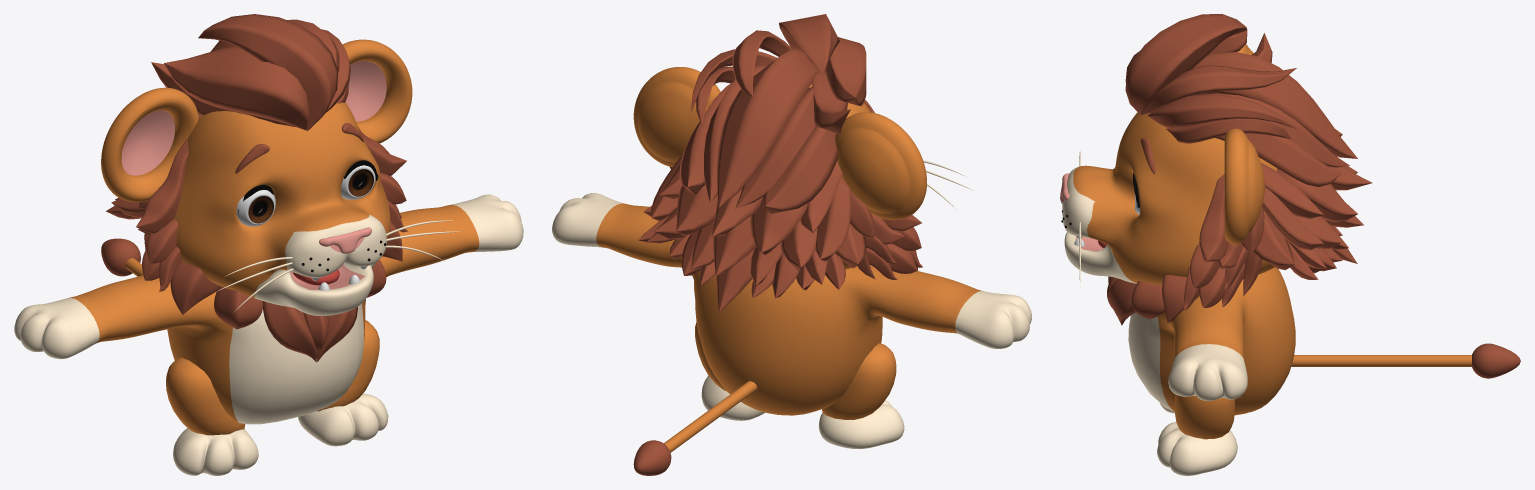
Rendered from character.glb.
3 renders of one model, left to right at view 1: azimuth 30°, elevation 25°; view 2: azimuth 150°, elevation 25°; view 3: azimuth 270°, elevation 25°, orthographic. The views are drawn at different scales.
Visible parts, largest first — view 1: Retopo_head, body, ears, NurbsPath.002, NurbsPath, feet, NurbsPath.001, legs, NurbsPath.003, NurbsPath.005, NurbsPath.004, Sphere.010 (+6 smaller); view 2: NurbsPath, body, ears, feet, legs, NurbsPath.002, NurbsPath.001, NurbsPath.007, tail, tail fur, NurbsPath.008, NurbsPath.009; view 3: NurbsPath, Retopo_head, body, NurbsPath.001, ears, NurbsPath.007, feet, NurbsPath.008, legs, tail, NurbsPath.009, tail fur (+4 smaller).
Part boxes in pixels (x1=…): Retopo_head: x1=174, y1=102, x2=390, y2=315; body: x1=14, y1=194, x2=523, y2=424; ears: x1=101, y1=39, x2=412, y2=202; NurbsPath.002: x1=164, y1=46, x2=309, y2=130; NurbsPath: x1=106, y1=40, x2=408, y2=291; feet: x1=173, y1=393, x2=388, y2=475; NurbsPath.001: x1=198, y1=14, x2=338, y2=131; legs: x1=166, y1=320, x2=379, y2=435; NurbsPath.003: x1=263, y1=301, x2=357, y2=362; NurbsPath.005: x1=170, y1=221, x2=402, y2=314; NurbsPath.004: x1=214, y1=260, x2=386, y2=329; Sphere.010: x1=236, y1=190, x2=275, y2=226; NurbsPath: x1=638, y1=49, x2=922, y2=312; body: x1=552, y1=193, x2=1031, y2=415; ears: x1=633, y1=67, x2=926, y2=220; feet: x1=701, y1=375, x2=904, y2=448; legs: x1=695, y1=322, x2=896, y2=419; NurbsPath.002: x1=825, y1=37, x2=866, y2=106; NurbsPath.001: x1=779, y1=14, x2=839, y2=74; NurbsPath.007: x1=732, y1=30, x2=791, y2=96; tail: x1=664, y1=381, x2=757, y2=452; tail fur: x1=633, y1=440, x2=671, y2=475; NurbsPath.008: x1=690, y1=49, x2=776, y2=113; NurbsPath.009: x1=695, y1=66, x2=735, y2=126; NurbsPath: x1=1184, y1=33, x2=1372, y2=310; Retopo_head: x1=1062, y1=112, x2=1276, y2=285; body: x1=1128, y1=267, x2=1295, y2=415; NurbsPath.001: x1=1125, y1=14, x2=1247, y2=114; ears: x1=1224, y1=44, x2=1265, y2=244; NurbsPath.007: x1=1141, y1=65, x2=1296, y2=115; feet: x1=1157, y1=403, x2=1237, y2=475; NurbsPath.008: x1=1147, y1=94, x2=1297, y2=129; legs: x1=1175, y1=394, x2=1234, y2=439; tail: x1=1291, y1=355, x2=1471, y2=366; NurbsPath.009: x1=1166, y1=118, x2=1290, y2=143; tail fur: x1=1472, y1=343, x2=1520, y2=378.
Size of the model in its own units: 5.24 by 4.32 by 4.48.
9 materials, 2 textured.
